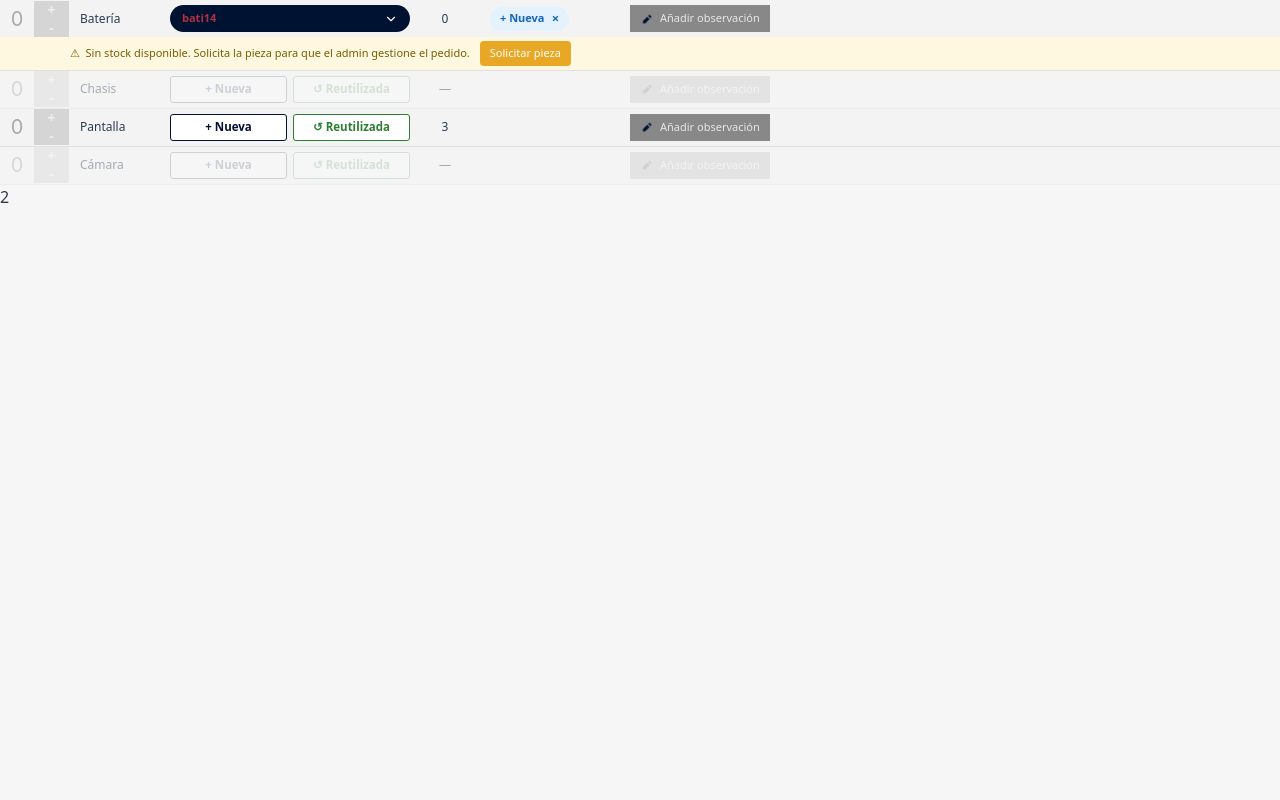
Scenario: SubFilaAgotado (ficha docs/paridad/formulario.md · Sub-fila de agotado y solicitud de pieza) › diálogo sin stock: título "Solicitar pieza — <tipo>", dos líneas de cabecera, placeholder, "Confirmar: solicitar pieza"; Cancelar no cambia nada
Click the button "Solicitar pieza" at (525, 53), box [480,41,571,66]
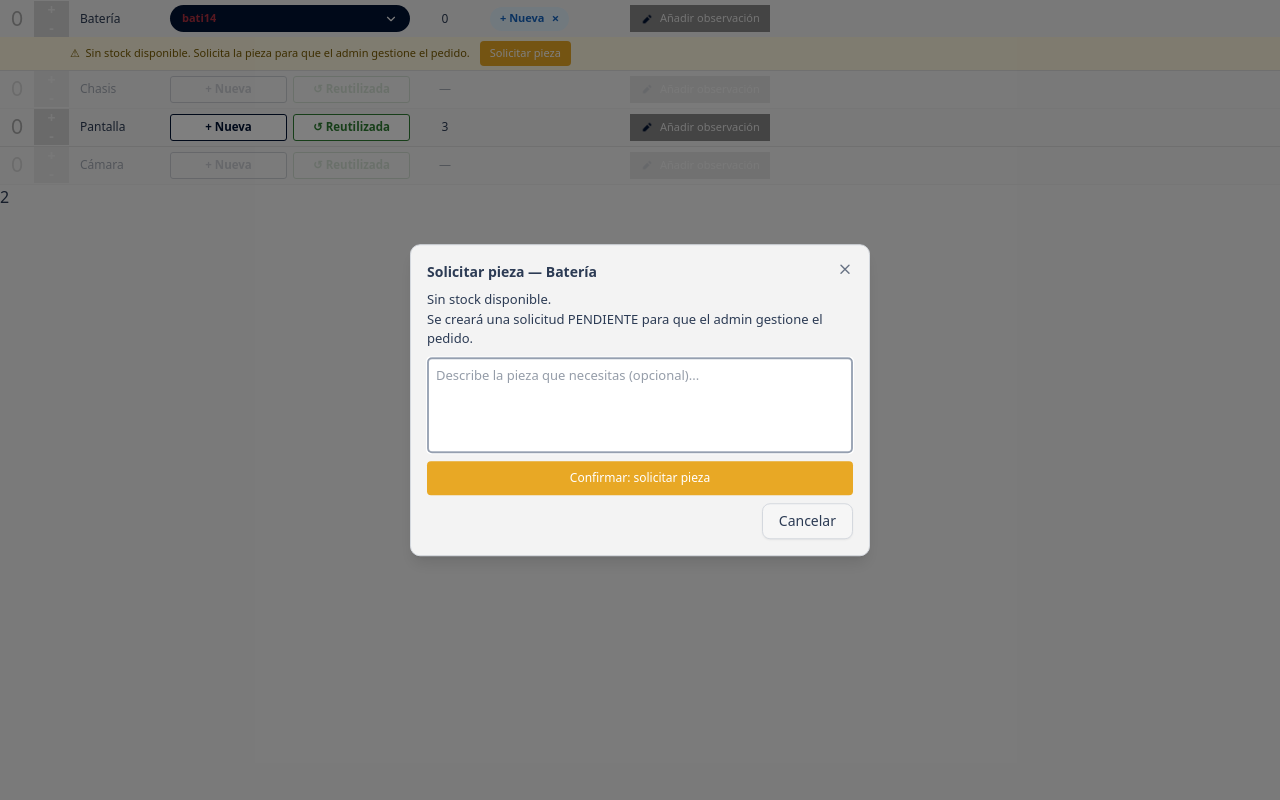
Expected: the text "Sin stock disponible." is shown, [427,290,551,308]
Expected: the text "Se creará una solicitud PENDIENTE para que el admin gestione el pedido." is shown, [427,310,853,349]
Expected: the text box with placeholder "Describe la pieza que necesitas (opcional)..." is empty, [427,357,853,453]
Click the button "Cancelar" at (807, 521), box [762,503,853,539]
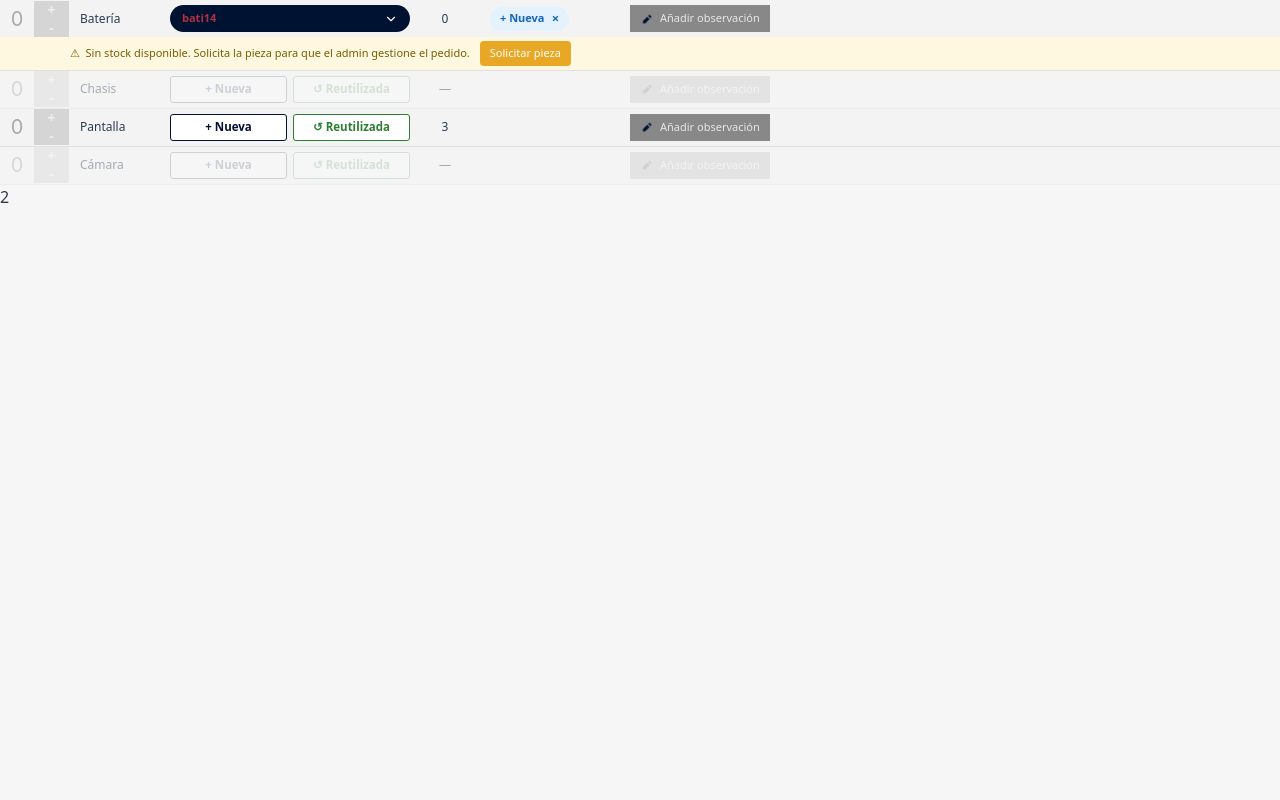
Expected: the dialog is gone
